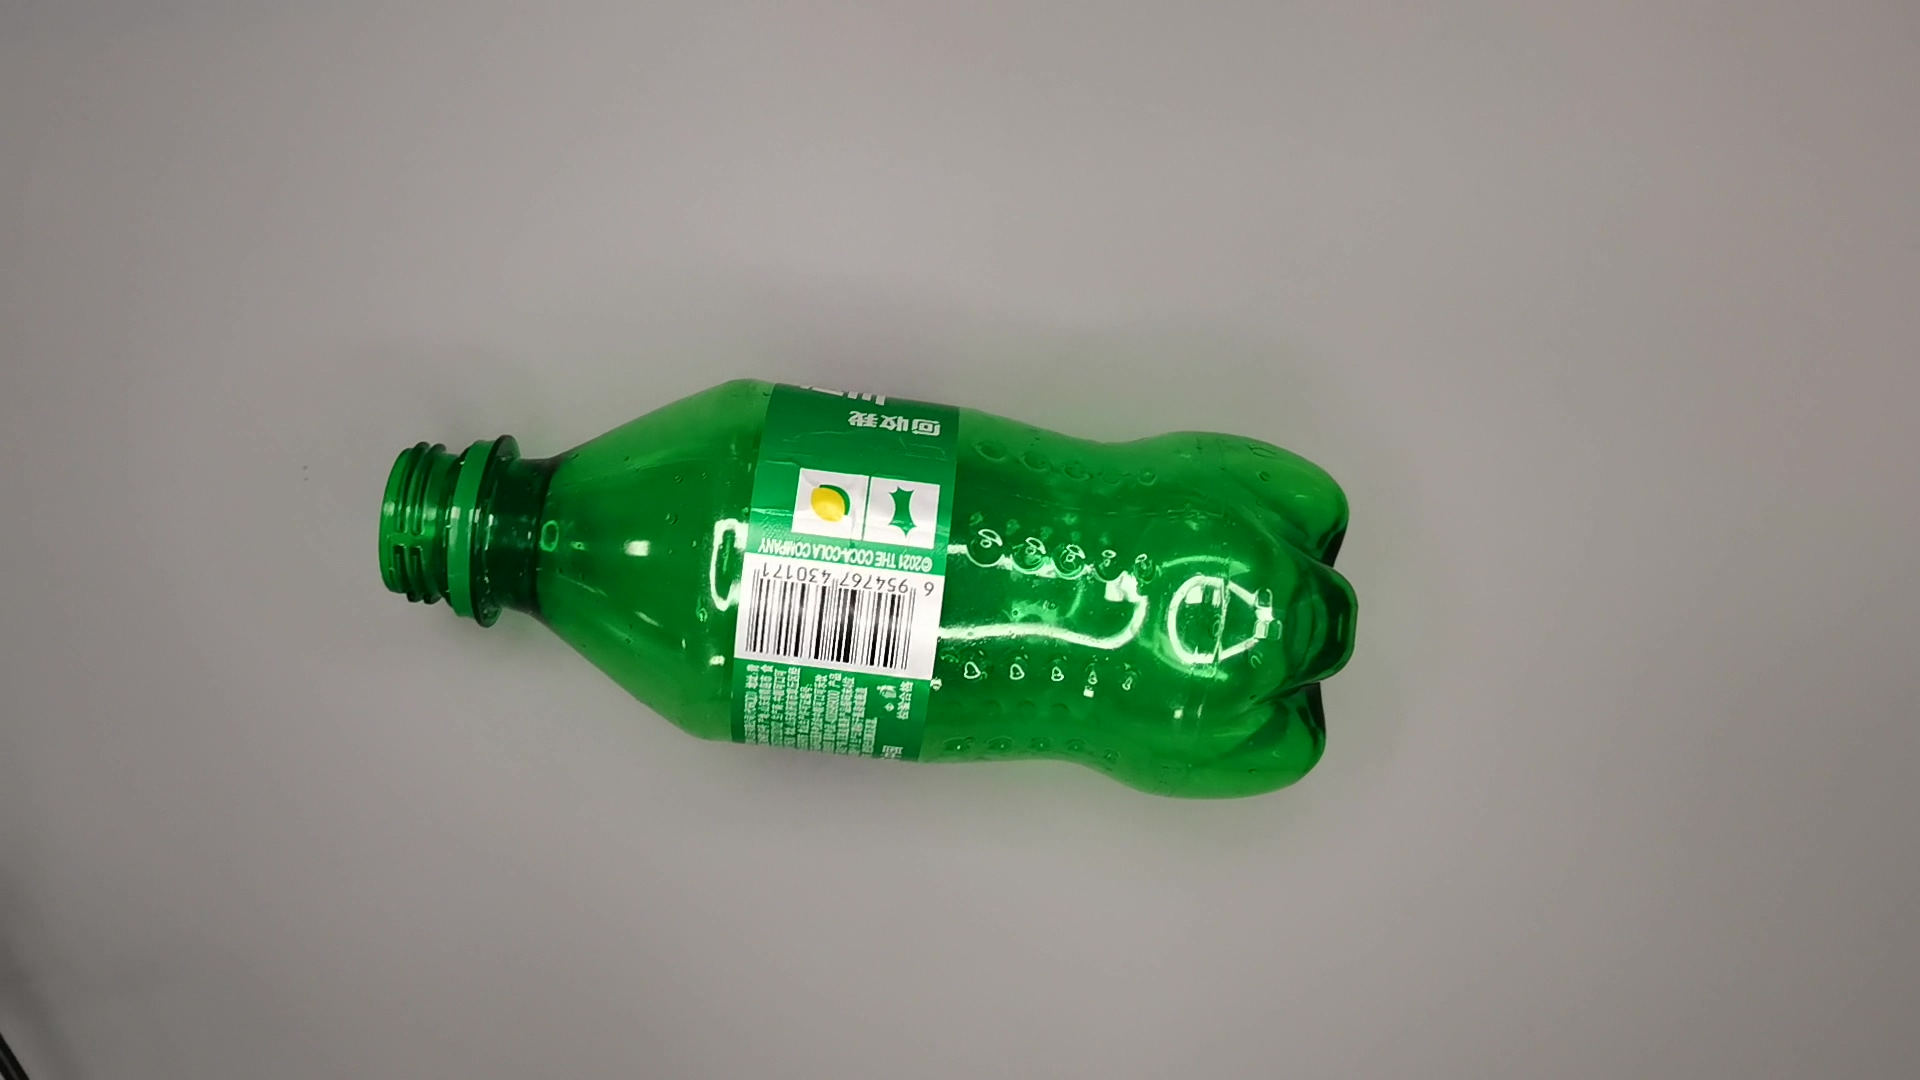bottle: (364, 357, 1364, 802)
